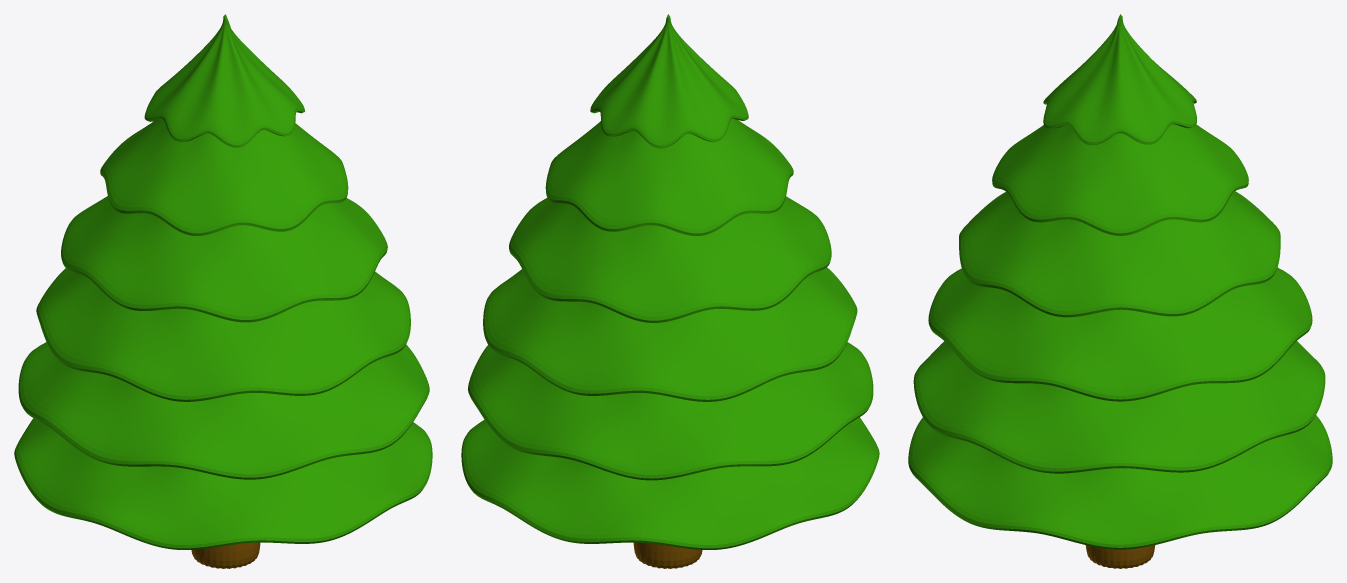
Rendered from Tree02.fbx.
3 renders of one model, left to right at view 1: azimuth 30°, elevation 25°; view 2: azimuth 150°, elevation 25°; view 3: azimuth 270°, elevation 25°, orthographic.
Visible parts, largest first — view 1: Cone.005; view 2: Cone.005; view 3: Cone.005.
Part boxes in pixels (<box>): Cone.005: <box>14,14,432,568</box>; Cone.005: <box>461,14,879,568</box>; Cone.005: <box>908,14,1332,568</box>.
Size of the model in its own units: 207 by 299 by 211.
